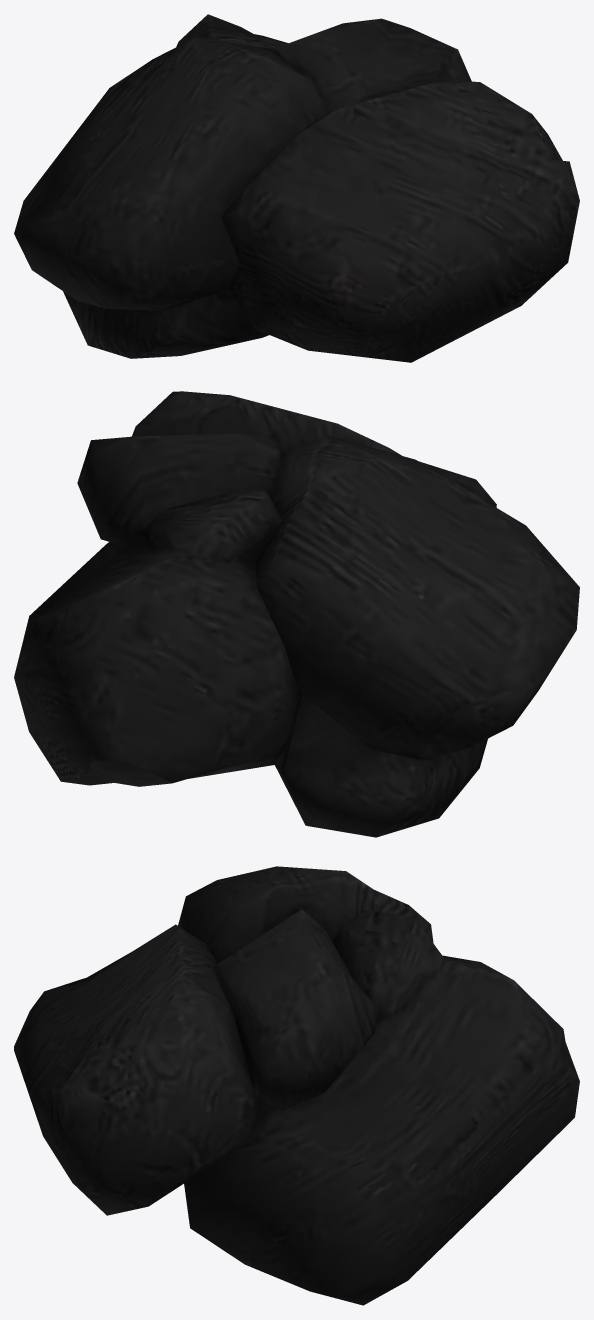
Rendered from charcoal.worldmodel.glb.
3 views of the same model, one above another, from view 1: azimuth 30°, elevation 25°; view 2: azimuth 150°, elevation 25°; view 3: azimuth 270°, elevation 25° (orthographic). The views are drawn at different scales.
Parts seen in each view (by area): view 1: charcoal_LOD0; view 2: charcoal_LOD0; view 3: charcoal_LOD0.
Boxes of the visible parts, left/top/right/bottom form: charcoal_LOD0: left=14, top=14, right=579, bottom=362; charcoal_LOD0: left=14, top=391, right=579, bottom=837; charcoal_LOD0: left=14, top=866, right=579, bottom=1305.
Bounding box in the file's own units: 0.2585 × 0.1758 × 0.2778.
Materials: 1 (1 with a texture image).
